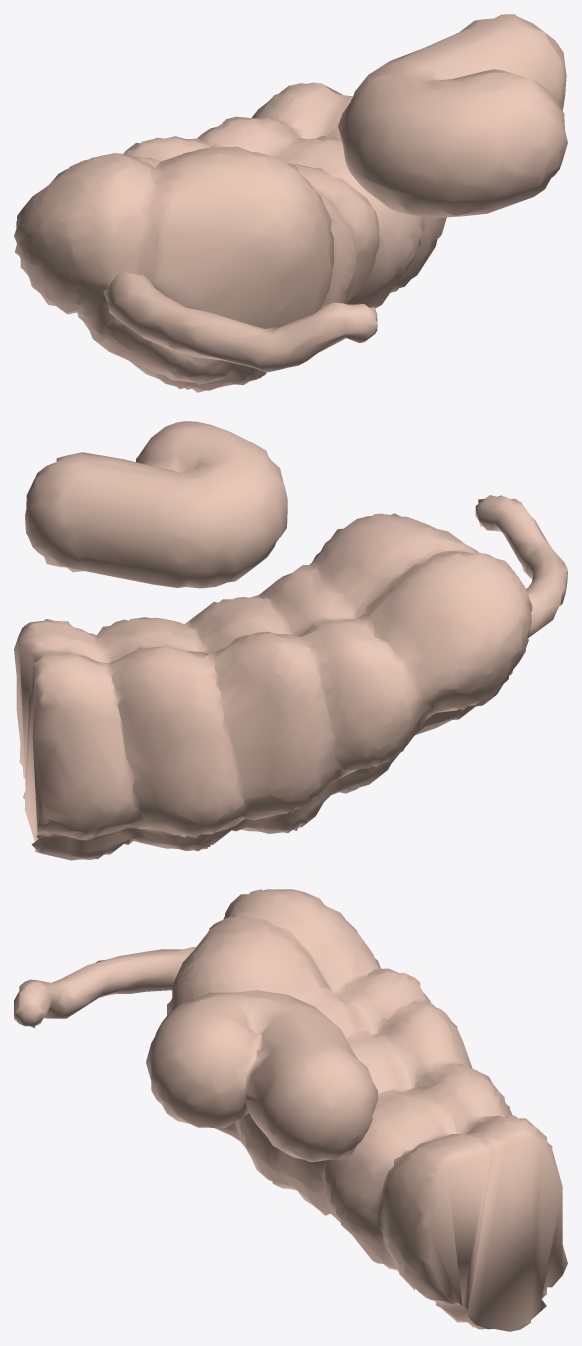
Rendered from anat_ileocaecum.glb.
3 renders of one model, top to bottom at view 1: azimuth 30°, elevation 25°; view 2: azimuth 150°, elevation 25°; view 3: azimuth 270°, elevation 25°, orthographic. The views are drawn at different scales.
Visible parts, largest first — view 1: caecum, ileum, appendix; view 2: caecum, ileum, appendix; view 3: caecum, ileum, appendix.
Part boxes in pixels (x1,y1,x2,y2): caecum: (14,82,446,392); ileum: (338,14,567,218); appendix: (103,271,377,372); caecum: (14,513,532,860); ileum: (25,421,287,588); appendix: (475,495,567,637); caecum: (167,889,567,1331); ileum: (146,990,377,1161); appendix: (14,947,195,1028).
Bounding box in the file's own units: 0.1025 × 0.0654 × 0.1025.
